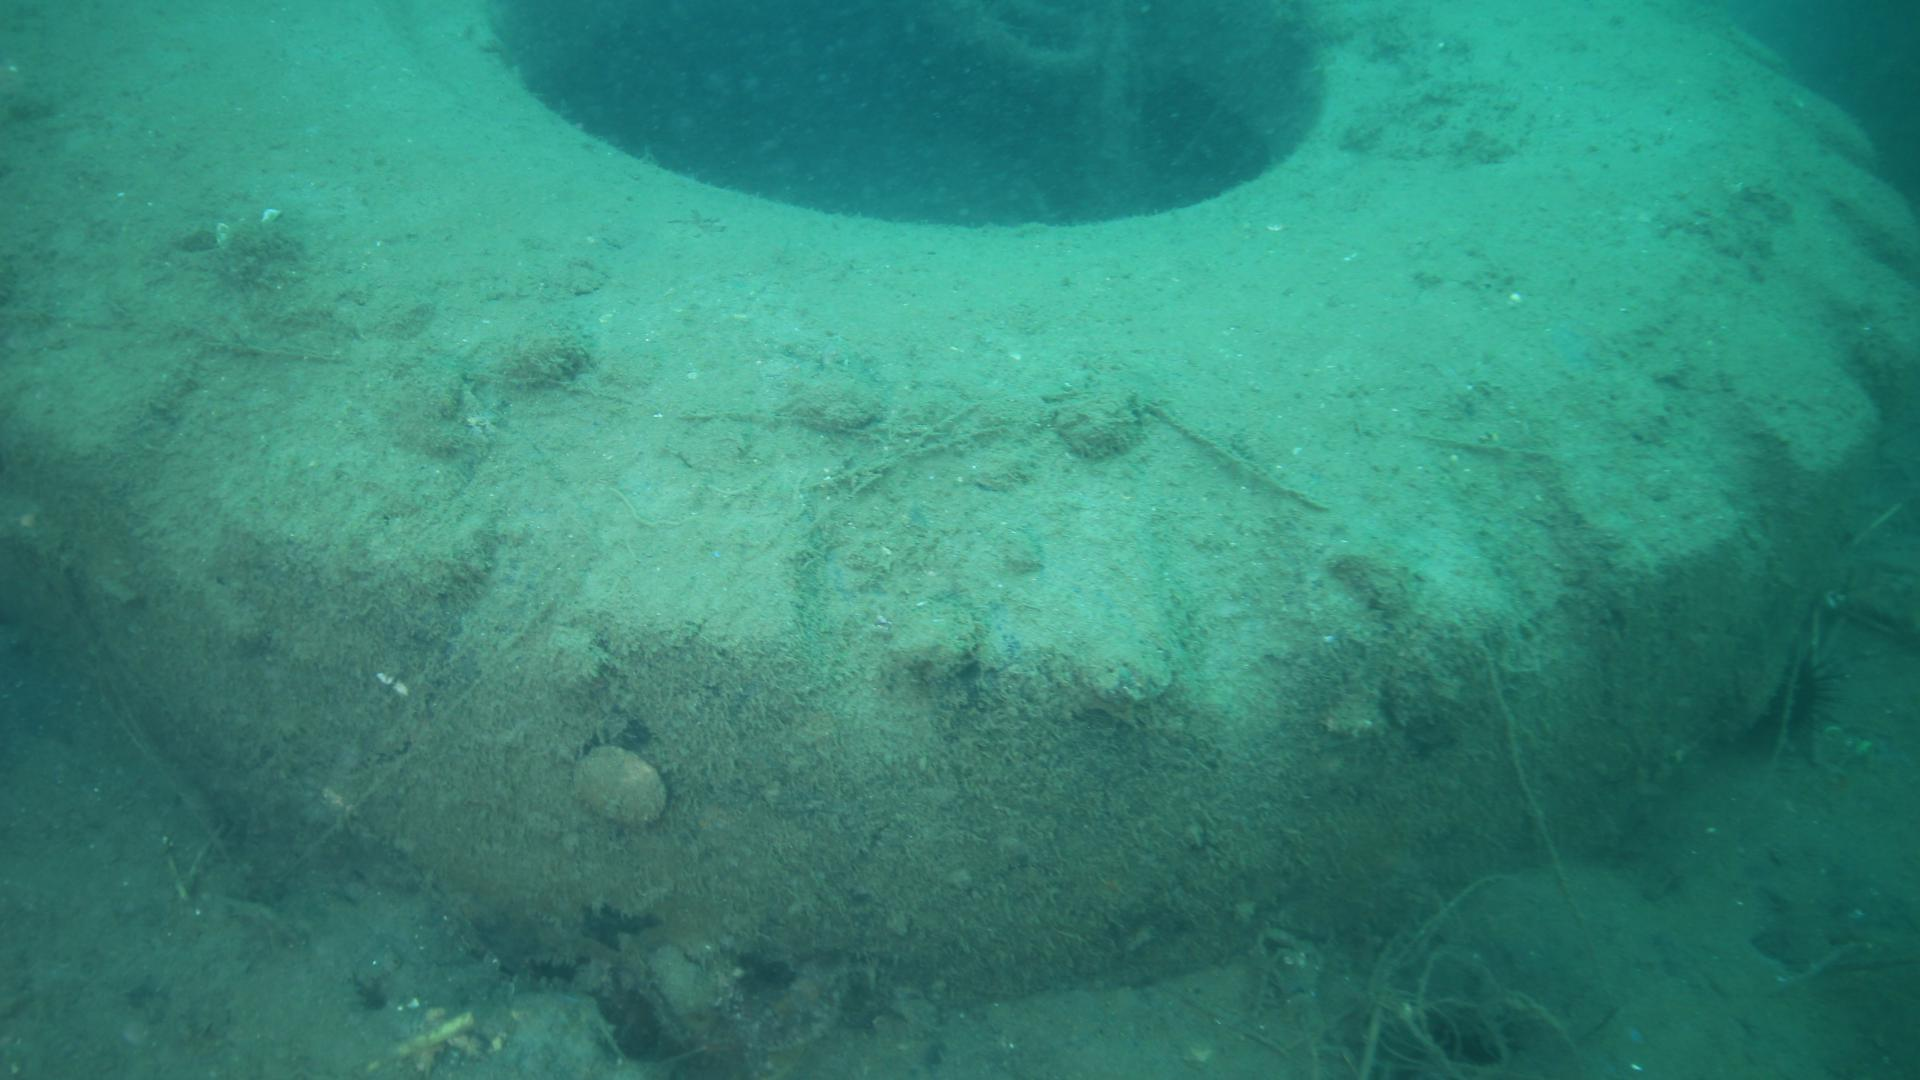tire: (3, 3, 1920, 997)
